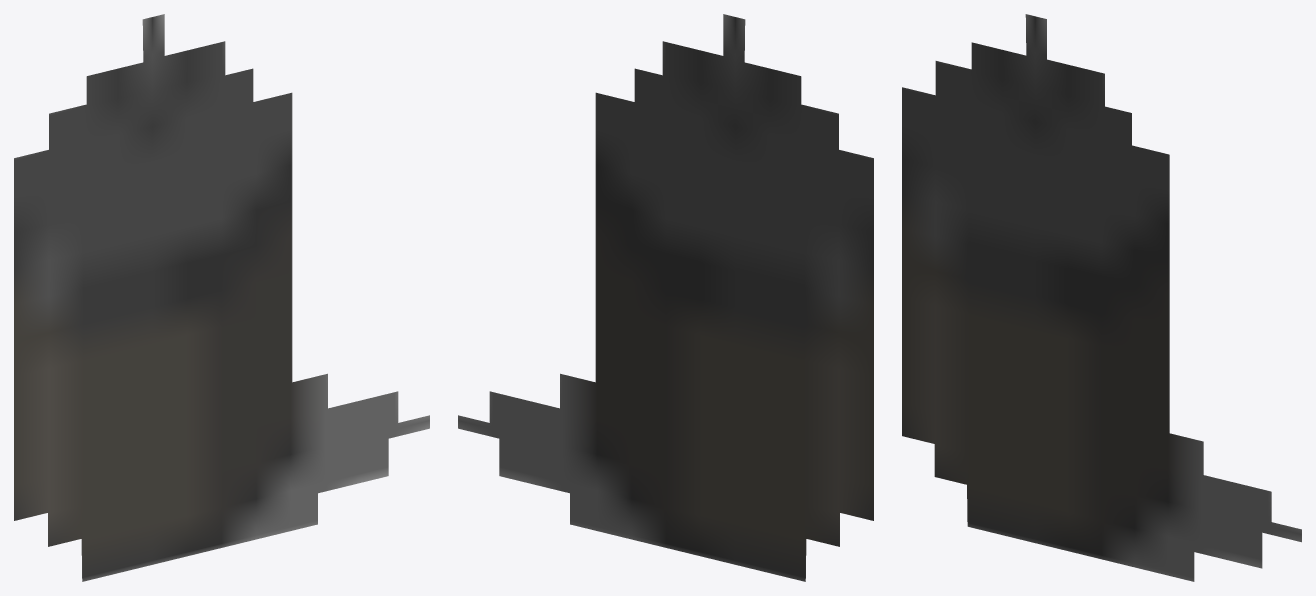
Rendered from Spray.fbx.
3 views of the same model, side by side, from view 1: azimuth 30°, elevation 25°; view 2: azimuth 150°, elevation 25°; view 3: azimuth 330°, elevation 25° (orthographic). The views are drawn at different scales.
Parts seen in each view (by area): view 1: Spray; view 2: Spray; view 3: Spray.
Boxes of the visible parts, x1,y1,x2,y2 form: Spray: [14, 14, 429, 581]; Spray: [458, 14, 873, 581]; Spray: [902, 14, 1301, 581].
Bounding box in the file's own units: 0.0637 × 0.0802 × 9.81e-09.
